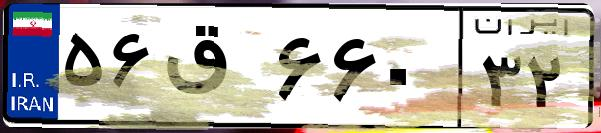0: (385, 28, 445, 110)
2: (525, 38, 570, 115)
3: (475, 38, 525, 113)
5: (57, 26, 110, 100)
6: (270, 28, 330, 110), (330, 28, 385, 110), (110, 28, 158, 98)
ق: (158, 20, 270, 120)
